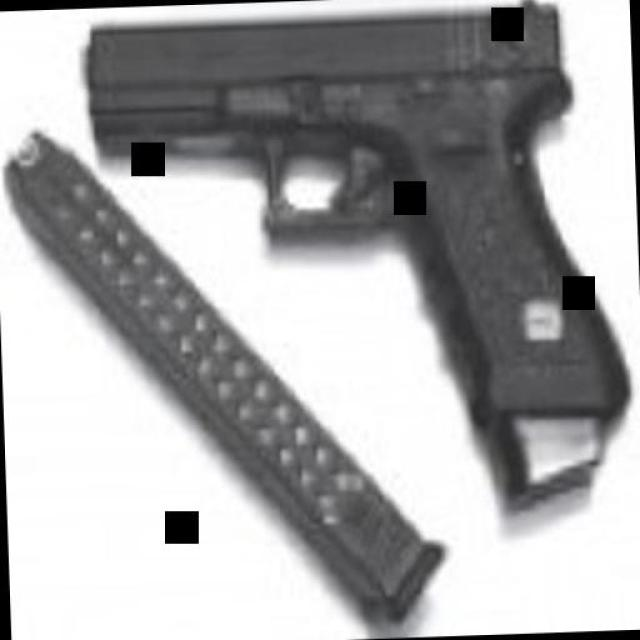gun: (79, 0, 625, 512)
